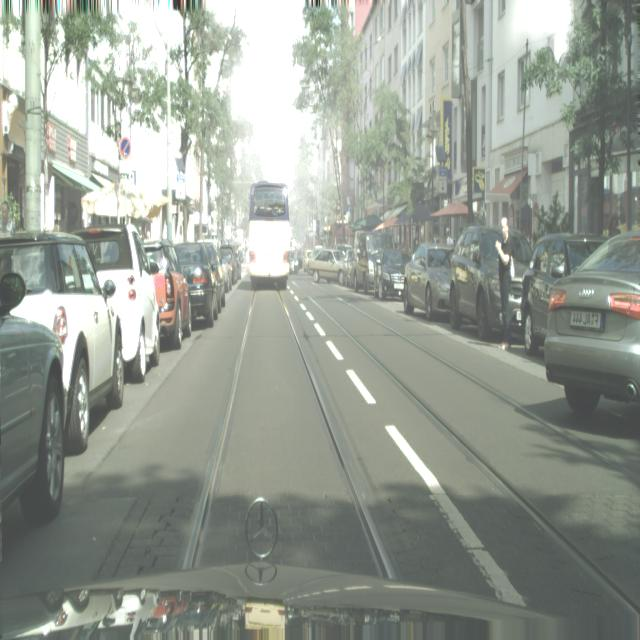bicycle: (249, 182, 290, 289)
bus: (495, 216, 515, 352)
person: (0, 230, 125, 454), (0, 271, 67, 558), (544, 232, 640, 414), (72, 223, 162, 383), (520, 232, 607, 354), (448, 222, 533, 342), (143, 240, 192, 349), (402, 242, 453, 321), (174, 242, 218, 328), (351, 230, 392, 295), (197, 239, 226, 311), (374, 249, 411, 300), (307, 248, 345, 284), (219, 245, 239, 286), (336, 247, 355, 286)
